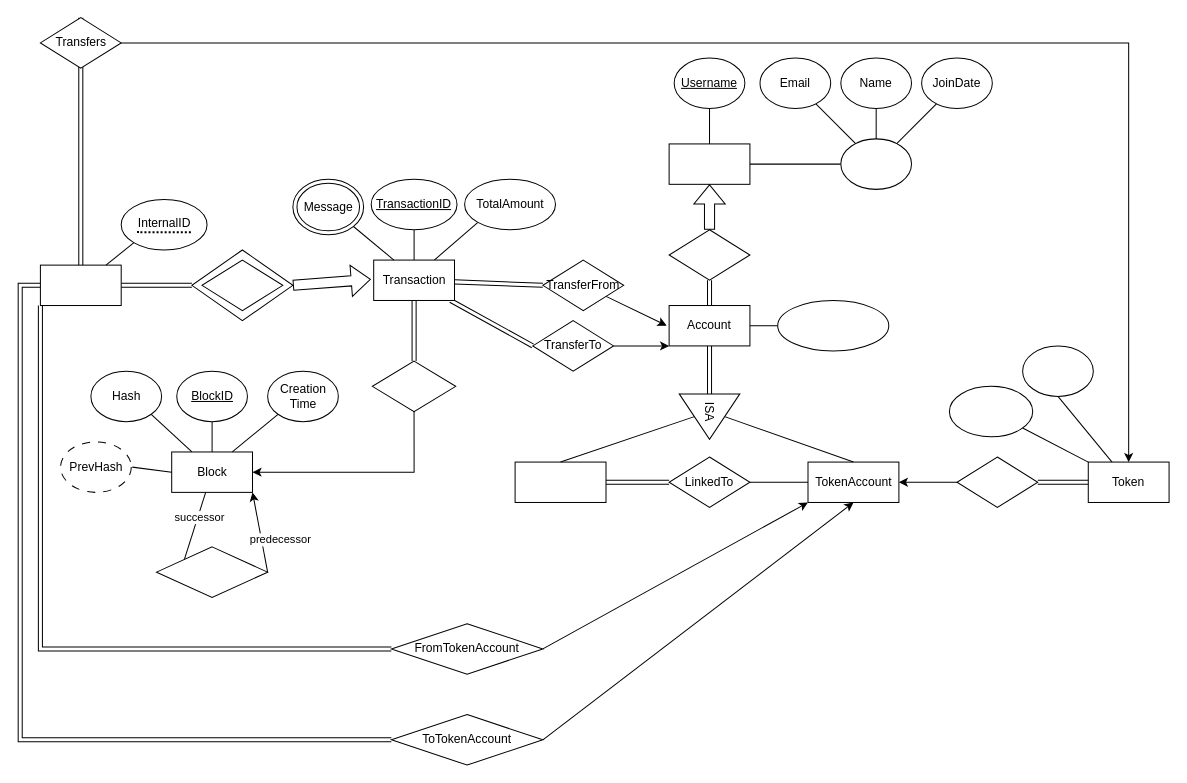
Some shapes in this 1187 by 783 pixel diagram are drawn without their labels. Each missing label, with the box of its shape:
AccountNumber: (777, 299, 889, 351)
ConsistsOf: (201, 259, 283, 311)
Internal Transaction: (39, 264, 121, 306)
Keeps: (956, 456, 1038, 508)
KeptIn: (371, 360, 456, 412)
Market Value: (948, 385, 1033, 437)
Owns: (668, 229, 750, 280)
PreviousBlock: (156, 546, 268, 597)
Profile: (840, 138, 912, 189)
Token ID: (1022, 345, 1093, 396)
User: (668, 143, 750, 184)
VirtualAccount: (514, 461, 606, 502)
